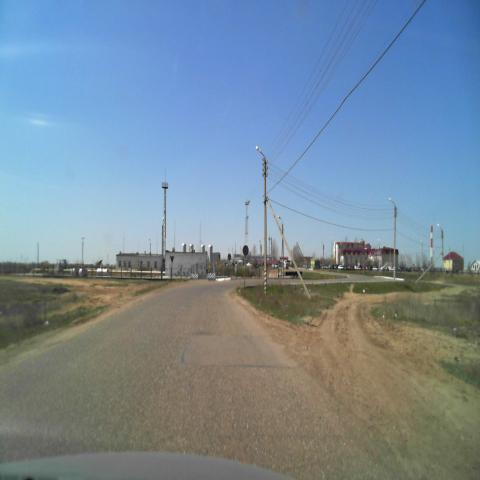3_27: (242, 245, 249, 256)
